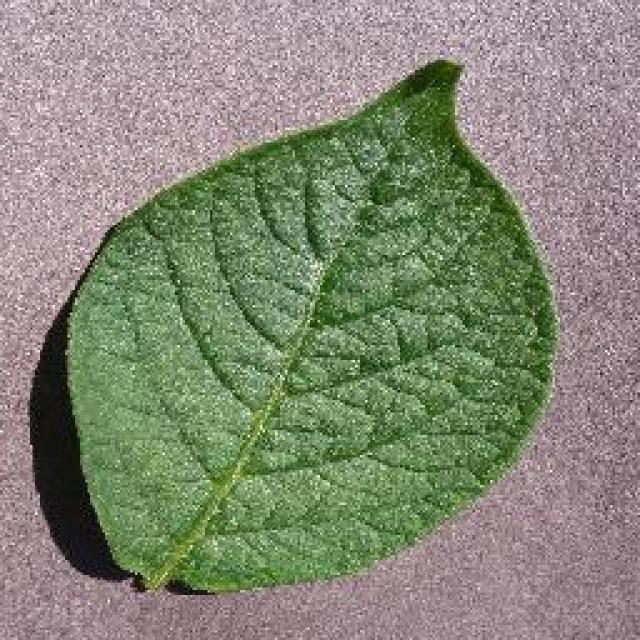Potato: (60, 55, 560, 595)
